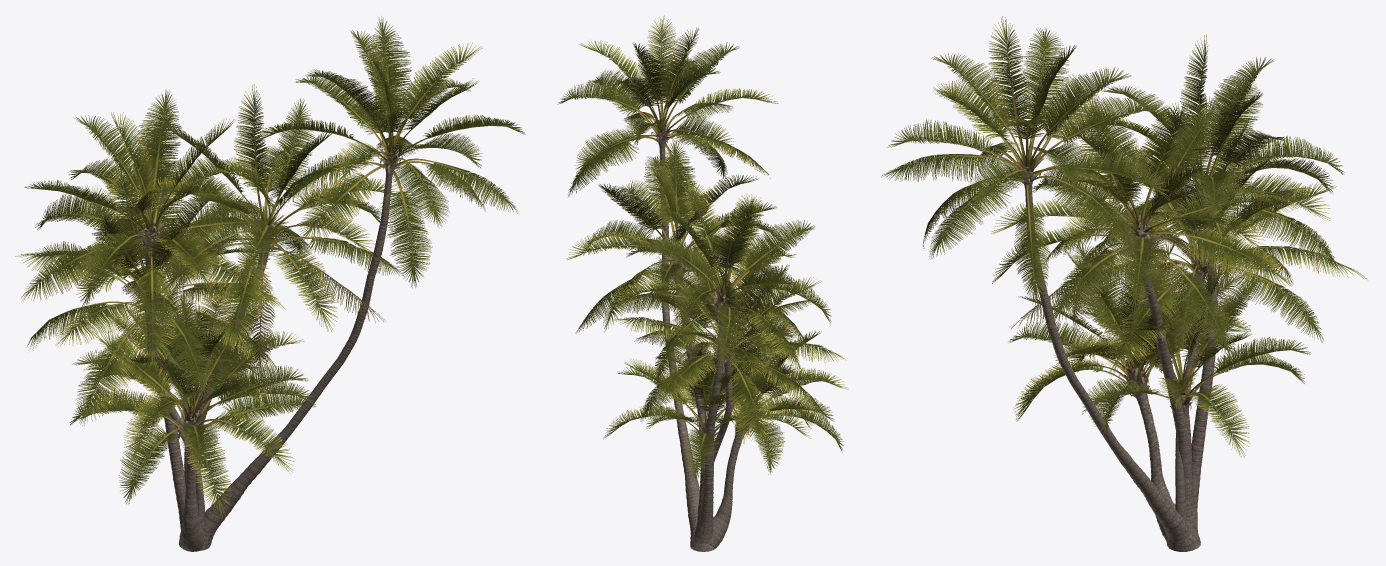
The model's file is Palm_Split.fbx.
3 views of the same model, side by side, from view 1: azimuth 30°, elevation 25°; view 2: azimuth 150°, elevation 25°; view 3: azimuth 270°, elevation 25° (orthographic). The views are drawn at different scales.
Visible parts, largest first — view 1: Palm.001, Palm, Palm.002, Palm.006, Palm.003, Palm.005; view 2: Palm, Palm.001, Palm.003, Palm.002, Palm.006, Palm.005; view 3: Palm.001, Palm.002, Palm, Palm.003, Palm.005, Palm.006.
Part boxes in pixels (x1,y1,x2,y2): Palm.001: (179,16,525,550); Palm: (21,89,291,528); Palm.002: (125,84,406,548); Palm.006: (70,291,316,551); Palm.003: (15,162,285,521); Palm.005: (72,281,315,484); Palm: (610,178,831,543); Palm.001: (557,15,778,550); Palm.003: (613,238,844,521); Palm.002: (566,139,780,551); Palm.006: (655,298,848,549); Palm.005: (603,323,810,492); Palm.001: (881,16,1200,551); Palm.002: (991,95,1293,545); Palm: (1051,34,1344,535); Palm.003: (1067,116,1367,520); Palm.005: (1066,255,1311,464); Palm.006: (1008,236,1251,548).
Bounding box in the file's own units: 1311 × 1343 × 1731.
